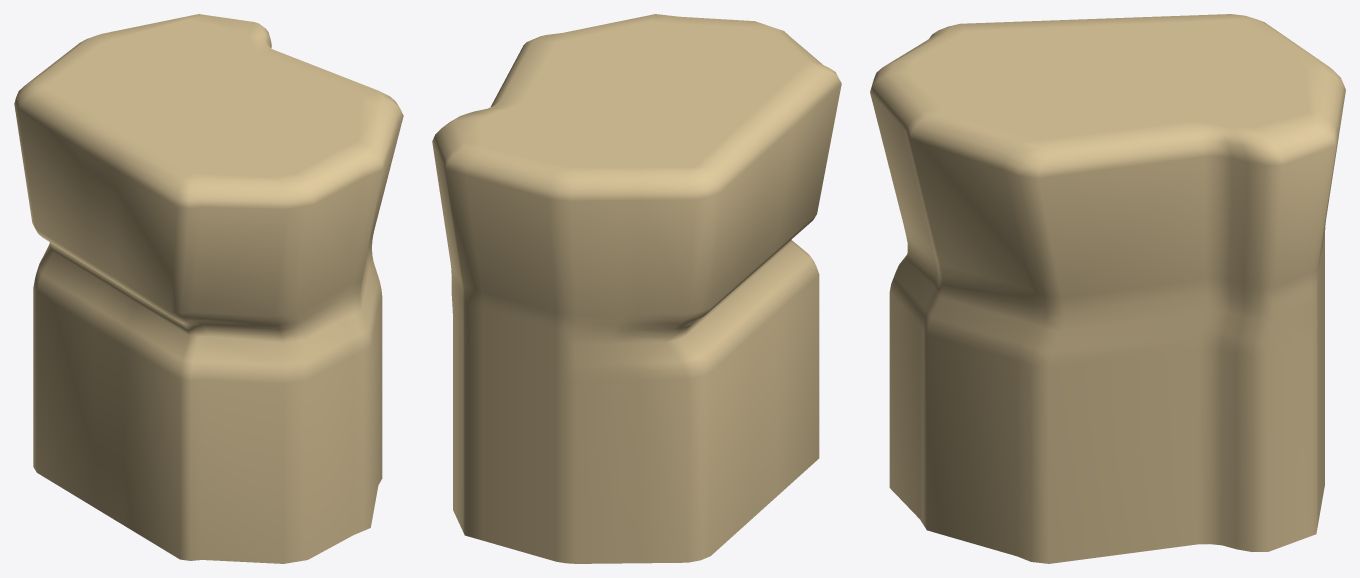
Rendered from Rock04_MESH.FBX.
3 views of the same model, side by side, from view 1: azimuth 30°, elevation 25°; view 2: azimuth 150°, elevation 25°; view 3: azimuth 270°, elevation 25° (orthographic). The views are drawn at different scales.
Parts seen in each view (by area): view 1: Rock04_low; view 2: Rock04_low; view 3: Rock04_low.
Boxes of the visible parts, x1,y1,x2,y2 form: Rock04_low: [14, 14, 403, 563]; Rock04_low: [432, 14, 841, 563]; Rock04_low: [870, 14, 1345, 563].
Size of the model in its own units: 287 by 363 by 378.
